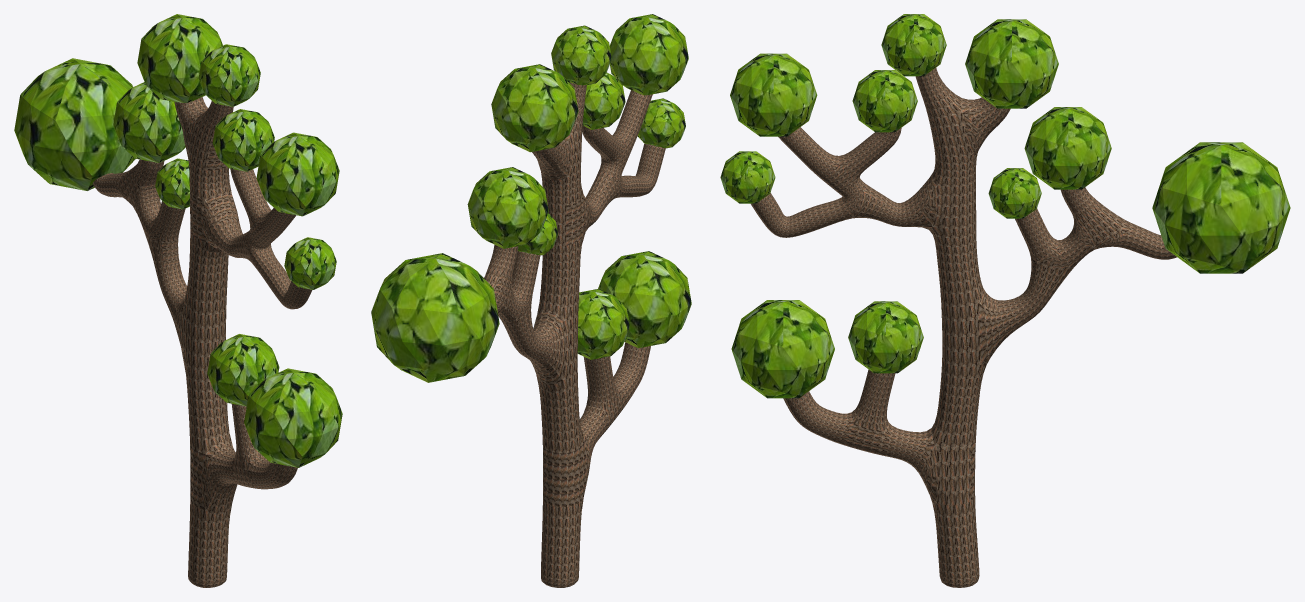
File: tree.fbx
3 views of the same model, side by side, from view 1: azimuth 30°, elevation 25°; view 2: azimuth 150°, elevation 25°; view 3: azimuth 270°, elevation 25° (orthographic). The views are drawn at different scales.
Visible parts, largest first — view 1: Icosphere, Cube; view 2: Icosphere, Cube; view 3: Icosphere, Cube.
Boxes of the visible parts, <box> form: Icosphere: <box>14,14,342,467</box>; Cube: <box>93,97,312,587</box>; Icosphere: <box>371,14,691,382</box>; Cube: <box>484,82,665,587</box>; Icosphere: <box>720,14,1290,398</box>; Cube: <box>751,67,1176,587</box>.
Bounding box in the file's own units: 268 × 1273 × 1160.
